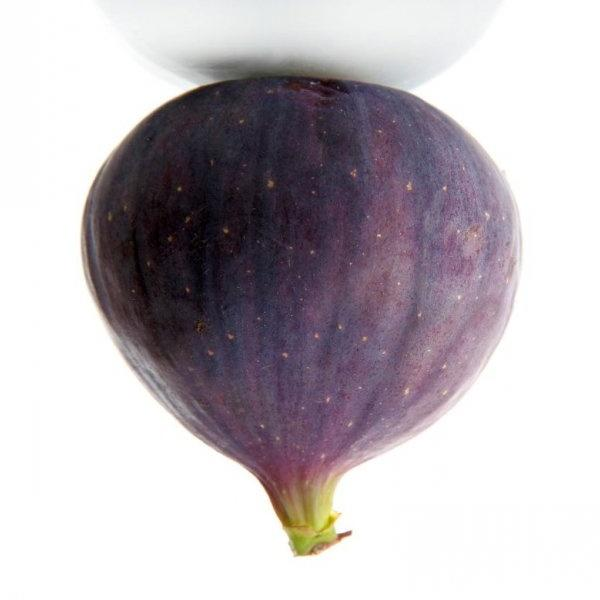fig: (79, 72, 522, 556)
